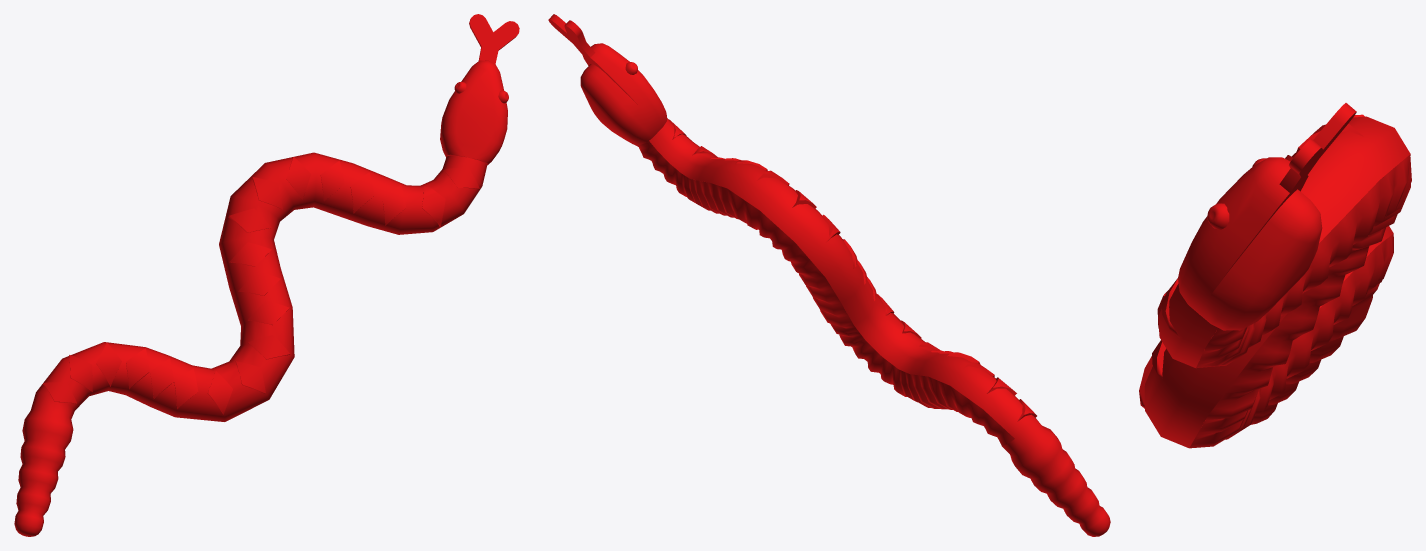
File: snake_30115.glb
3 views of the same model, side by side, from view 1: azimuth 30°, elevation 25°; view 2: azimuth 150°, elevation 25°; view 3: azimuth 270°, elevation 25° (orthographic). The views are drawn at different scales.
Parts seen in each view (by area): view 1: 00001_30115.dat; view 2: 00001_30115.dat; view 3: 00001_30115.dat.
Part boxes in pixels (left/top/right/bottom): 00001_30115.dat: left=14, top=14, right=519, bottom=536; 00001_30115.dat: left=548, top=14, right=1110, bottom=536; 00001_30115.dat: left=1139, top=103, right=1411, bottom=448.
Bounding box in the file's own units: 2.37 × 1.71 × 0.5419.
